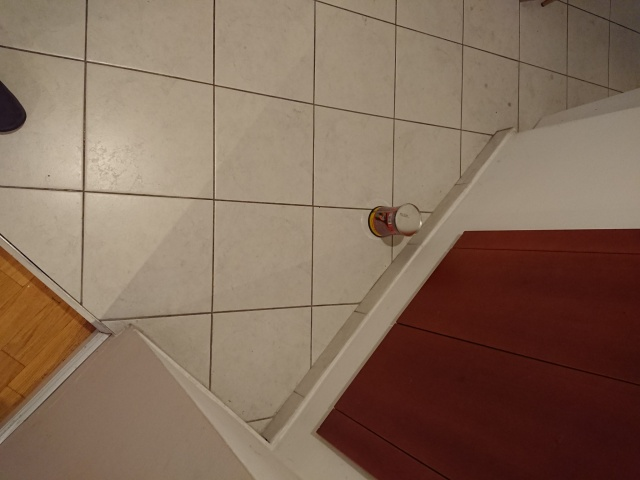Nescafe Classic 225g: (365, 201, 426, 240)
